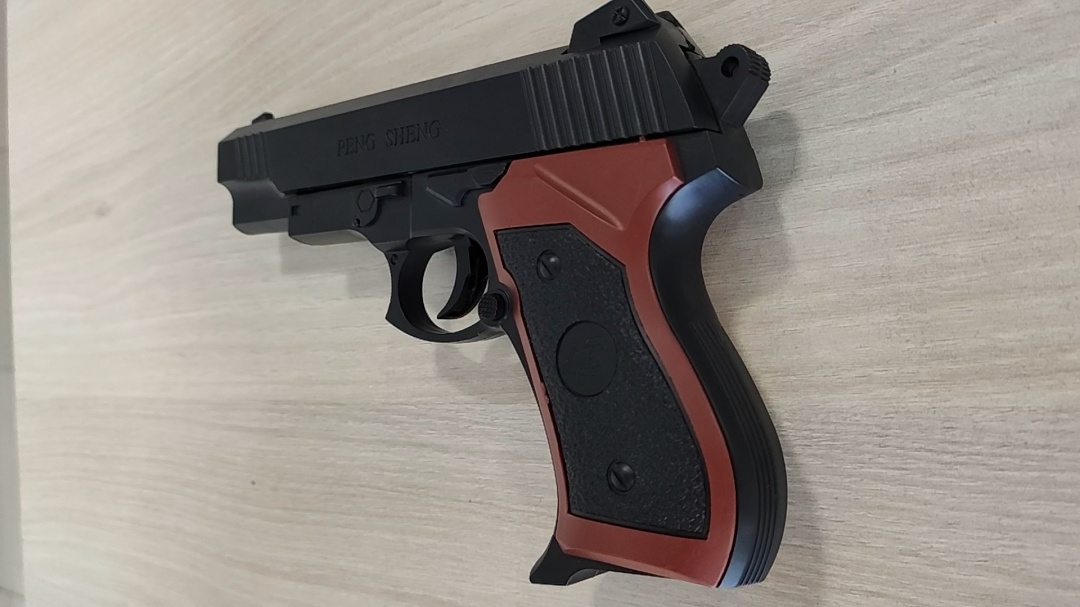gun: (214, 1, 790, 589)
